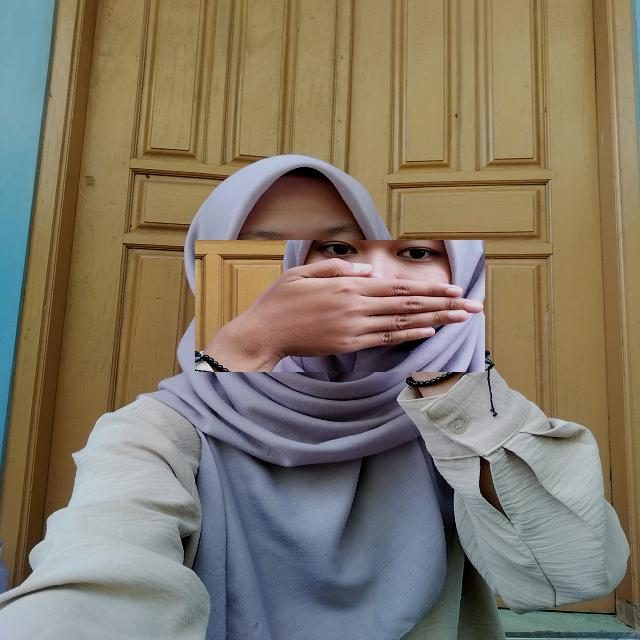buruk: (195, 240, 485, 372)
